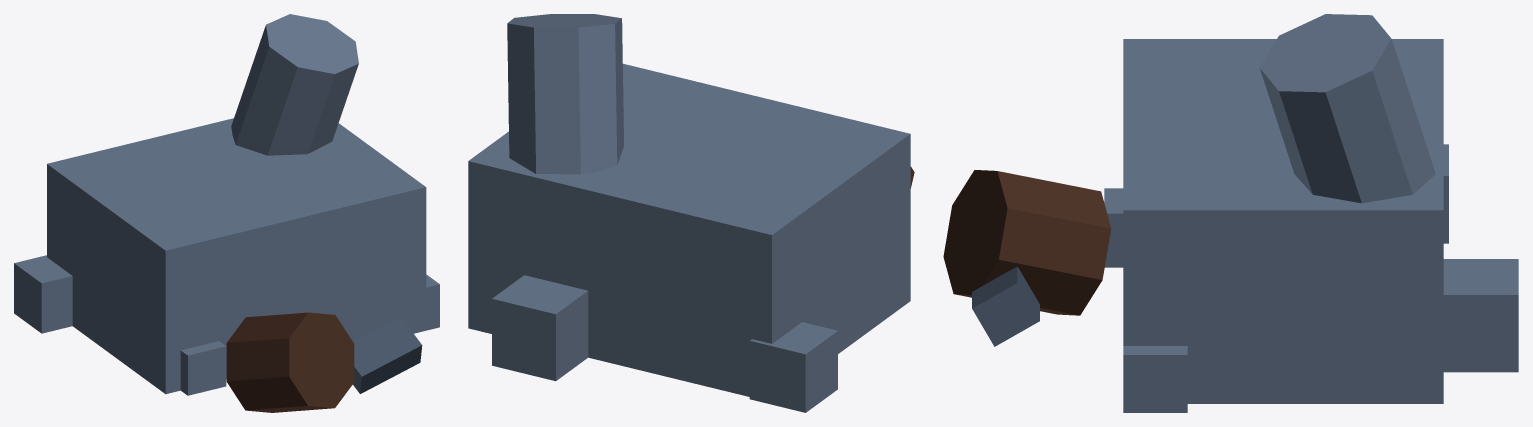
File: forja_ruina.glb
The picture shows the model from 3 angles, left to right: view 1: azimuth 30°, elevation 25°; view 2: azimuth 150°, elevation 25°; view 3: azimuth 270°, elevation 25°; orthographic projection. The views are drawn at different scales.
Parts seen in each view (by area): view 1: Cube, Cylinder, Cylinder.001, Cube.002, Cube.001, Cube.004, Cube.003; view 2: Cube, Cylinder, Cube.005, Cube.002; view 3: Cube, Cylinder, Cylinder.001, Cube.005, Cube.003, Cube.001, Cube.004, Cube.002.
Boxes of the visible parts, x1,y1,x2,y2 form: Cube: (47, 118, 426, 394); Cylinder: (231, 14, 358, 155); Cylinder.001: (226, 312, 354, 412); Cube.002: (14, 255, 72, 333); Cube.001: (353, 317, 422, 393); Cube.004: (180, 341, 226, 395); Cube.003: (398, 274, 439, 333); Cube: (468, 63, 910, 396); Cylinder: (507, 14, 623, 174); Cube.005: (492, 275, 588, 381); Cube.002: (749, 322, 837, 412); Cube: (1123, 39, 1443, 403); Cylinder: (1259, 14, 1435, 203); Cylinder.001: (943, 170, 1111, 315); Cube.005: (1443, 259, 1518, 372); Cube.003: (1123, 346, 1187, 412); Cube.001: (972, 266, 1039, 346); Cube.004: (1104, 188, 1123, 267); Cube.002: (1443, 144, 1448, 243).
Bounding box in the file's own units: 2.22 × 1.92 × 2.69.
